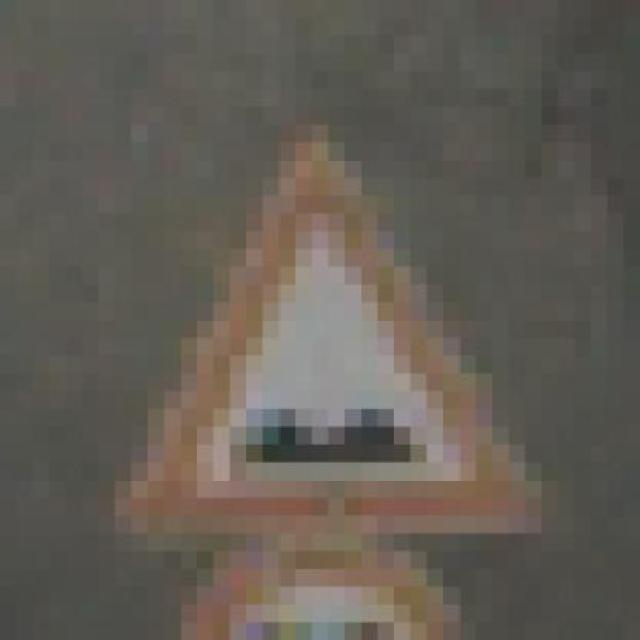Uneven Road: (81, 124, 558, 551)
